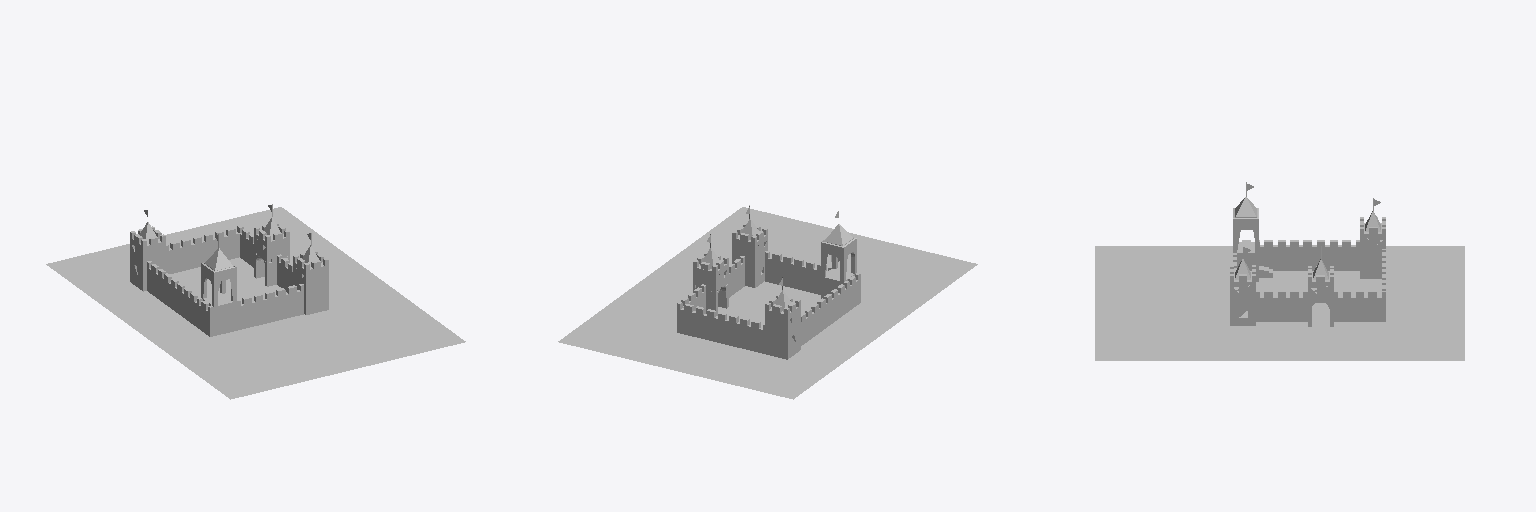
The model's file is Castle_3.obj.
3 views of the same model, side by side, from view 1: azimuth 30°, elevation 25°; view 2: azimuth 150°, elevation 25°; view 3: azimuth 270°, elevation 25° (orthographic).
Parts seen in each view (by area): view 1: Plane.001_Plane.003, Cube.000_House_3.001; view 2: Plane.001_Plane.003, Cube.000_House_3.001; view 3: Plane.001_Plane.003, Cube.000_House_3.001.
Boxes of the visible parts, x1,y1,x2,y2 form: Plane.001_Plane.003: [46, 207, 465, 399]; Cube.000_House_3.001: [130, 204, 328, 336]; Plane.001_Plane.003: [558, 207, 977, 399]; Cube.000_House_3.001: [677, 205, 860, 359]; Plane.001_Plane.003: [1095, 246, 1464, 360]; Cube.000_House_3.001: [1230, 182, 1385, 326].
Size of the model in its own units: 9.05 by 3.47 by 12.31.